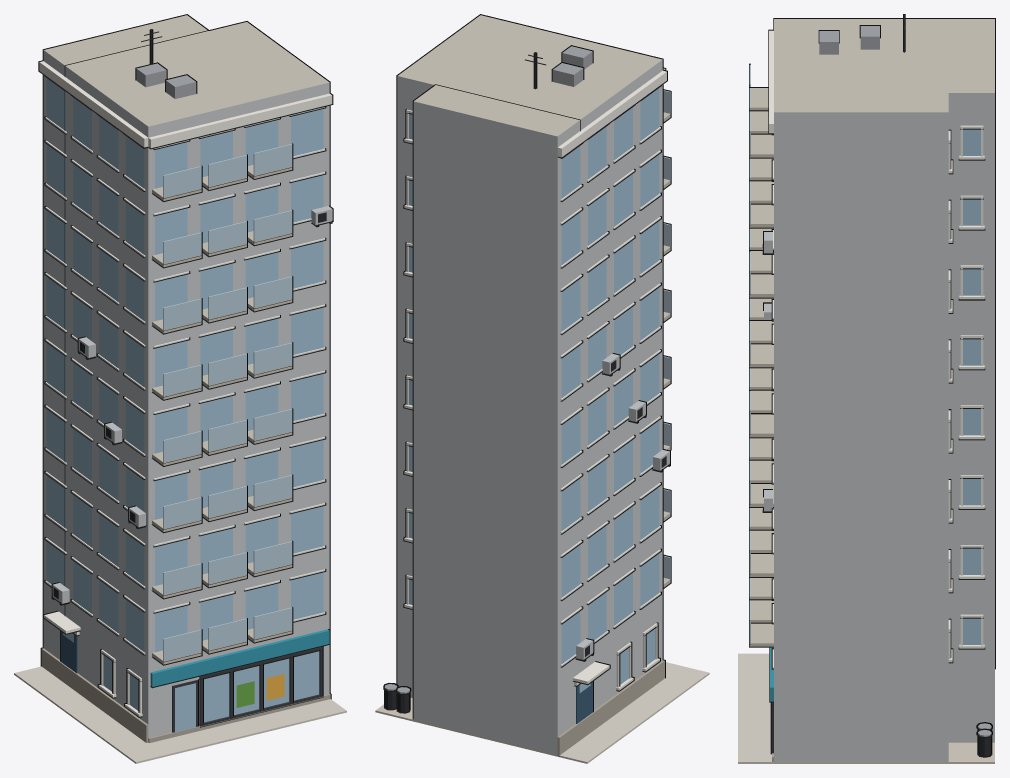
File: Blok_kose_9k_1.fbx
3 renders of one model, left to right at view 1: azimuth 30°, elevation 25°; view 2: azimuth 150°, elevation 25°; view 3: azimuth 270°, elevation 25°, orthographic. The views are drawn at different scales.
Visible parts, largest first — view 1: Blok_kose_9k_1; view 2: Blok_kose_9k_1; view 3: Blok_kose_9k_1.
Part boxes in pixels (<box>): Blok_kose_9k_1: <box>14,14,346,763</box>; Blok_kose_9k_1: <box>375,14,709,763</box>; Blok_kose_9k_1: <box>738,14,995,763</box>.
Bounding box in the file's own units: 10.03 × 29.61 × 10.03.
